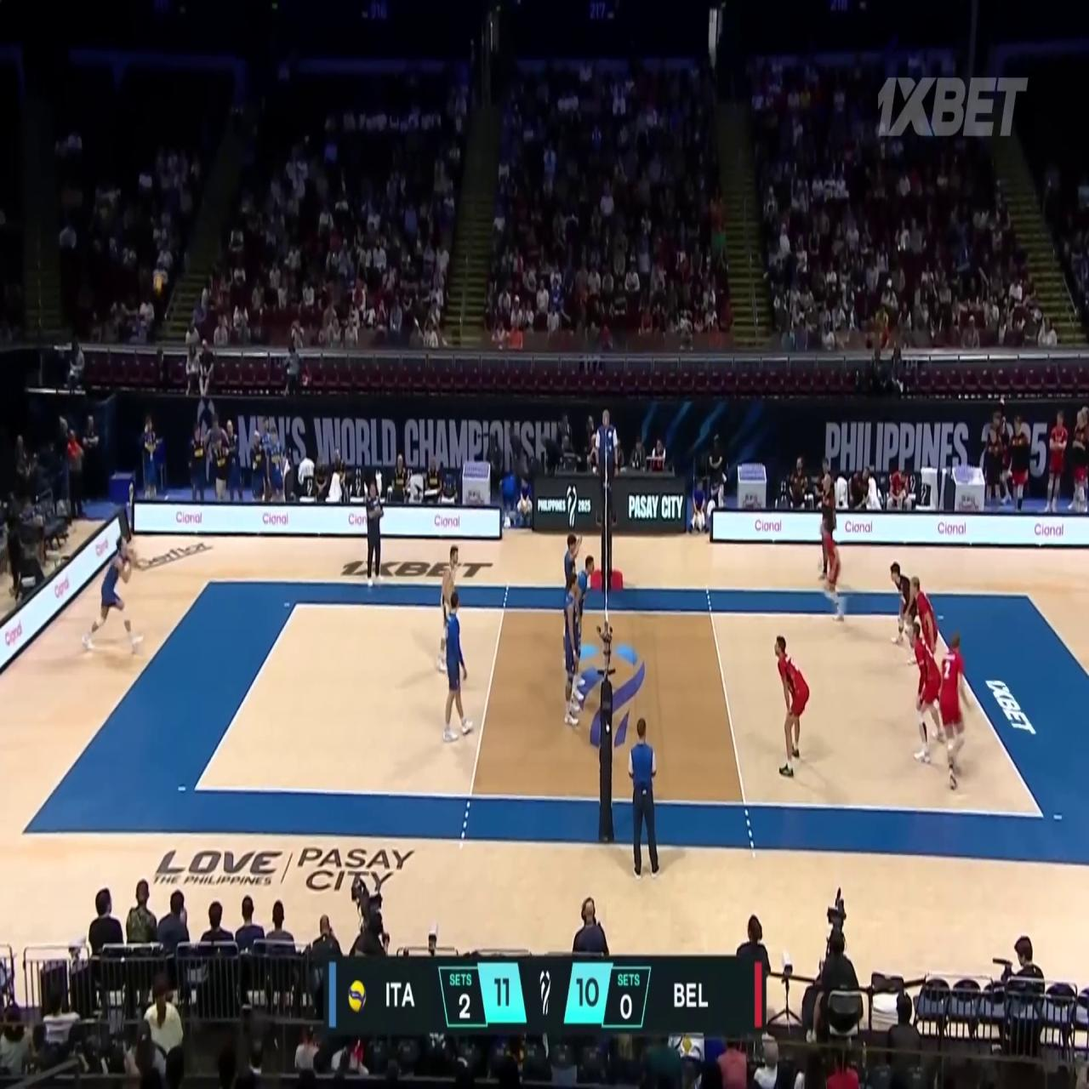ball: (155, 275, 163, 291)
